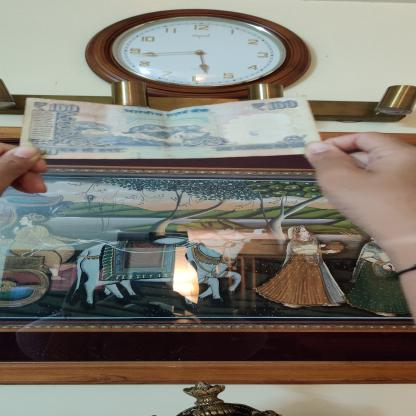Old100Back: (19, 95, 322, 159)
